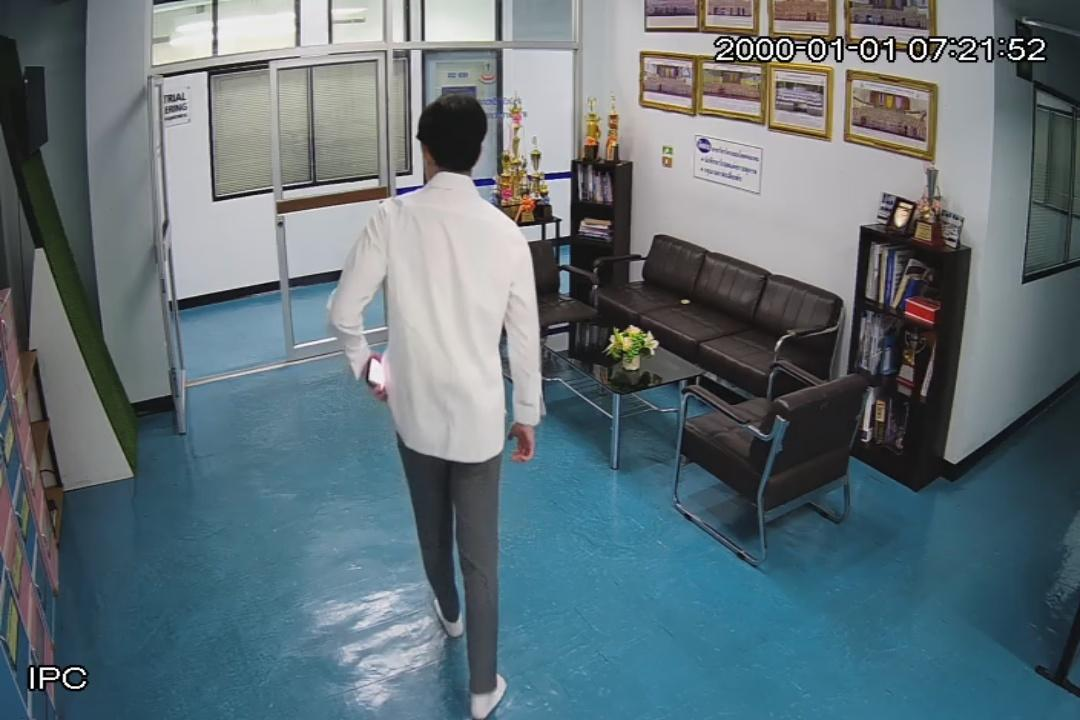normal: (328, 76, 556, 720)
